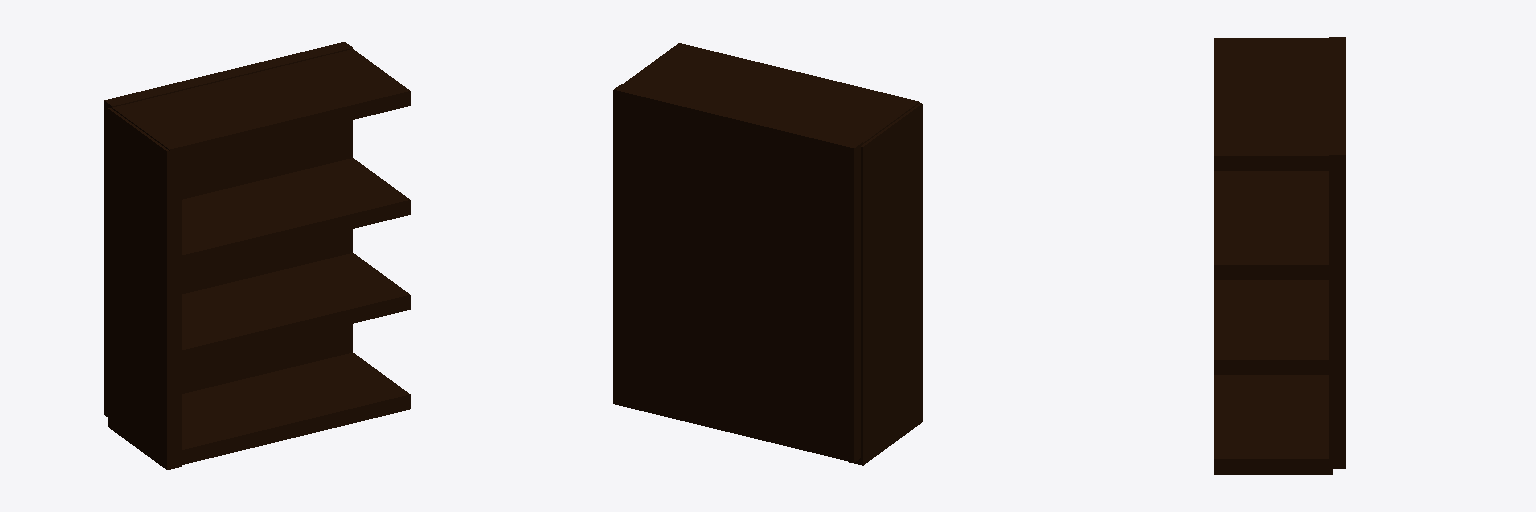
File: mueble.obj
3 renders of one model, left to right at view 1: azimuth 30°, elevation 25°; view 2: azimuth 150°, elevation 25°; view 3: azimuth 270°, elevation 25°, orthographic.
Parts seen in each view (by area): view 1: Cube.032, Cube.030, Cube.029, Cube.033, Cube.028, Cube.034; view 2: Cube.030, Cube.032, Cube.029; view 3: Cube.029, Cube.033, Cube.028, Cube.034, Cube.030.
Part boxes in pixels (bbox=[...]): Cube.032: bbox=[108, 108, 181, 469]; Cube.030: bbox=[104, 42, 352, 416]; Cube.029: bbox=[112, 49, 410, 164]; Cube.033: bbox=[170, 158, 410, 272]; Cube.028: bbox=[170, 353, 410, 467]; Cube.034: bbox=[170, 253, 410, 367]; Cube.030: bbox=[613, 84, 862, 462]; Cube.032: bbox=[849, 103, 922, 465]; Cube.029: bbox=[624, 43, 919, 145]; Cube.029: bbox=[1214, 38, 1332, 170]; Cube.033: bbox=[1214, 171, 1332, 279]; Cube.028: bbox=[1214, 375, 1332, 474]; Cube.034: bbox=[1214, 280, 1332, 374]; Cube.030: bbox=[1329, 37, 1345, 468].
Size of the model in its own units: 2.37 by 2.98 by 1.1.